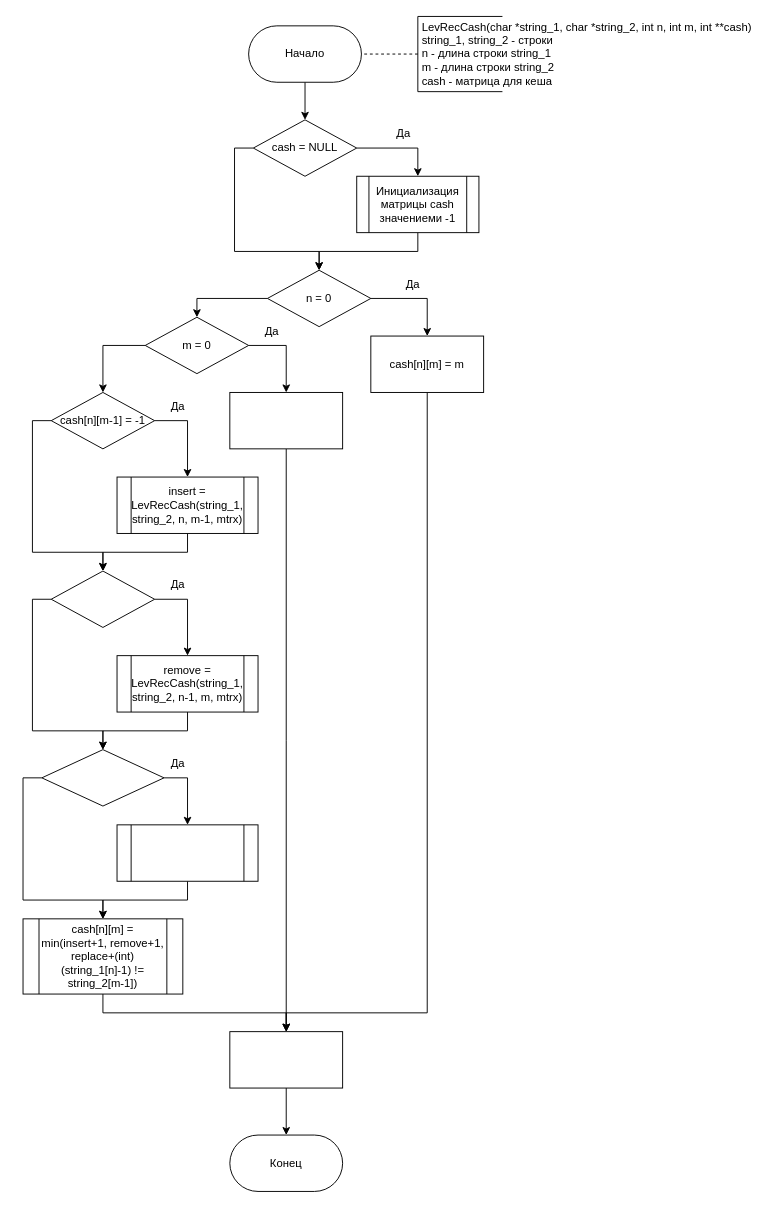
This 773x1208 diagram has some shape labels left out. Here are the shapes that lost their labels. From the top down, the box of each, then its label:
(229, 392, 343, 449): cash[n][m] = n
(50, 570, 155, 627): cash[n-1][m] = -1
(41, 749, 164, 806): cash[n-1][m-1] = -1
(116, 824, 258, 881): replace = LevRecCash(string_1, string_2, n-1, m-1, mtrx)
(229, 1031, 343, 1088): result = cash[n][m]
